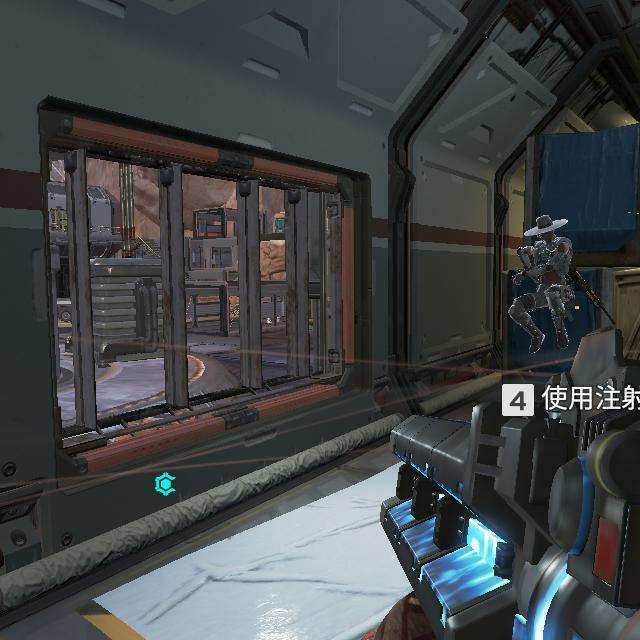avatar: (506, 213, 576, 356)
